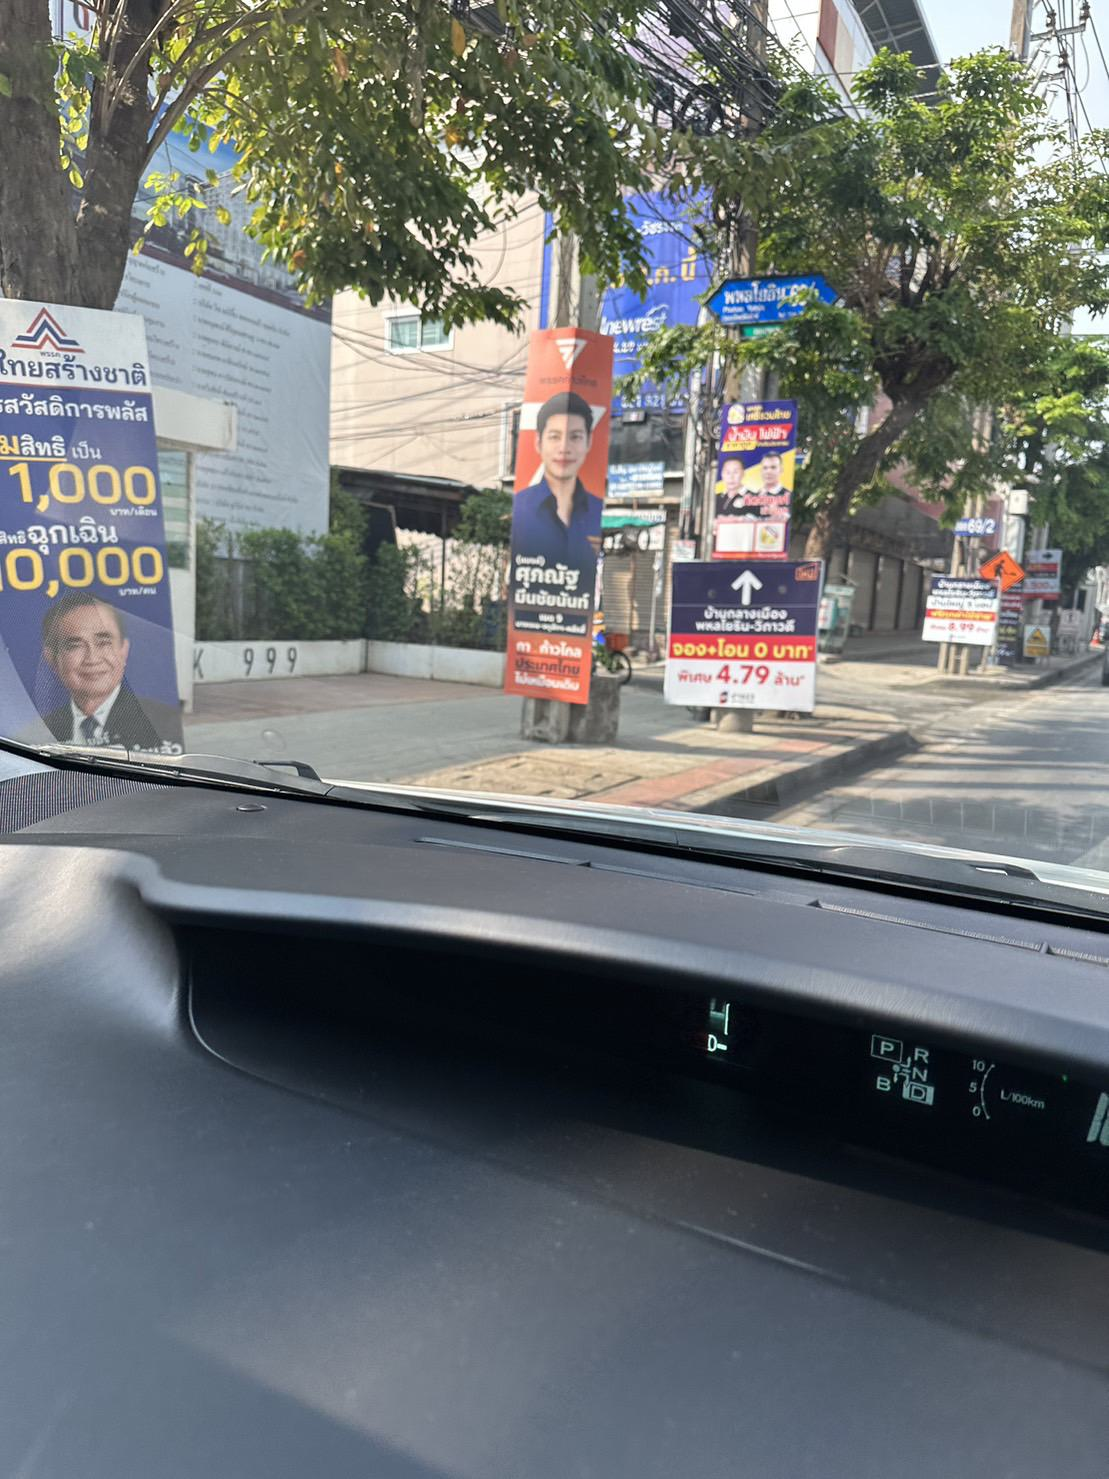Banner: (0, 289, 192, 752), (501, 321, 621, 698)
